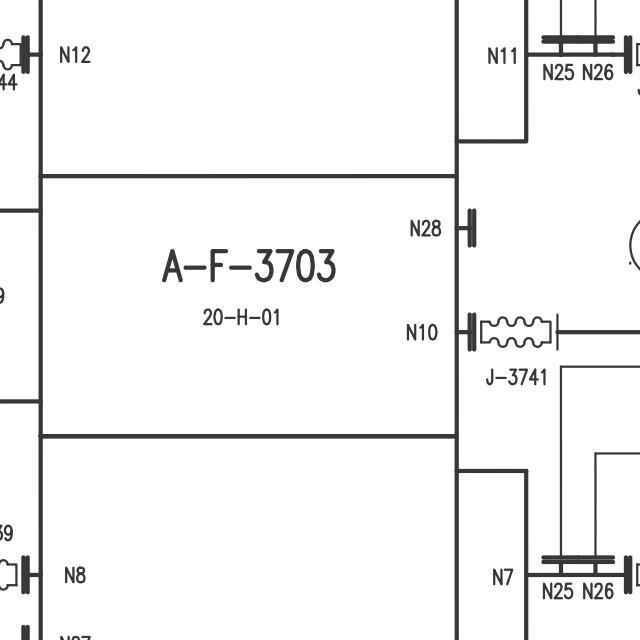EJ: (473, 307, 563, 354)
